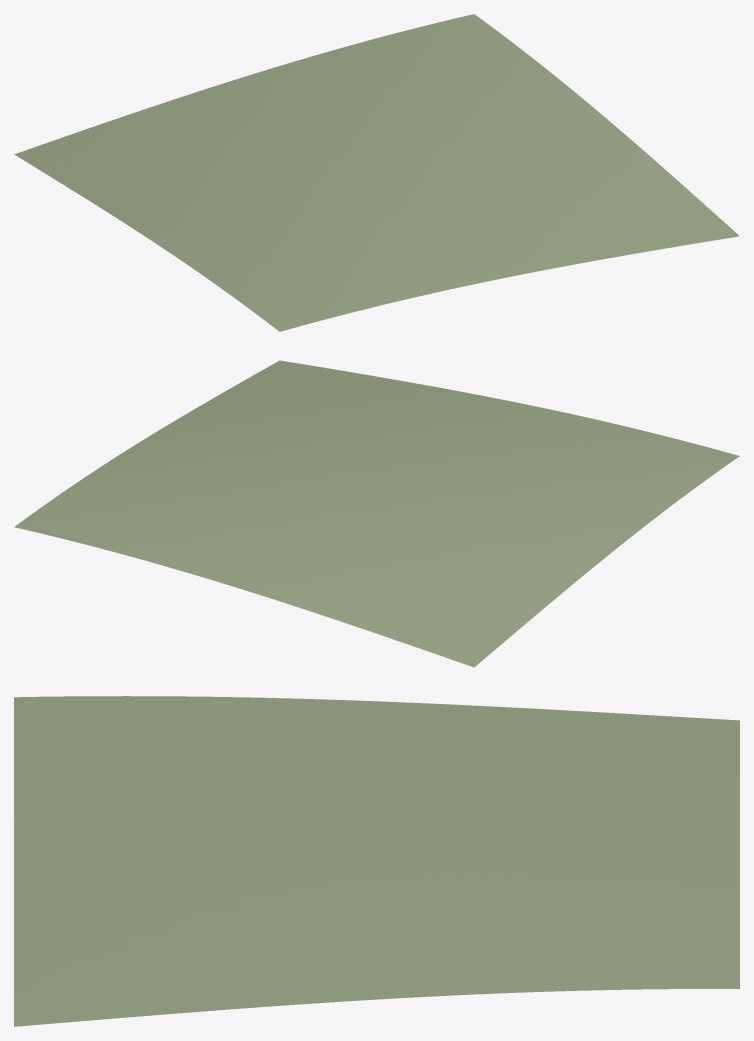
The model's file is alpine-5-15.glb.
3 views of the same model, one above another, from view 1: azimuth 30°, elevation 25°; view 2: azimuth 150°, elevation 25°; view 3: azimuth 270°, elevation 25° (orthographic). The views are drawn at different scales.
Visible parts, largest first — view 1: alpine-5-15; view 2: alpine-5-15; view 3: alpine-5-15.
Boxes of the visible parts, bbox=[...] form: alpine-5-15: bbox=[14, 14, 739, 331]; alpine-5-15: bbox=[14, 360, 739, 667]; alpine-5-15: bbox=[14, 696, 739, 1026].
Bounding box in the file's own units: 256 × 15.45 × 256.
